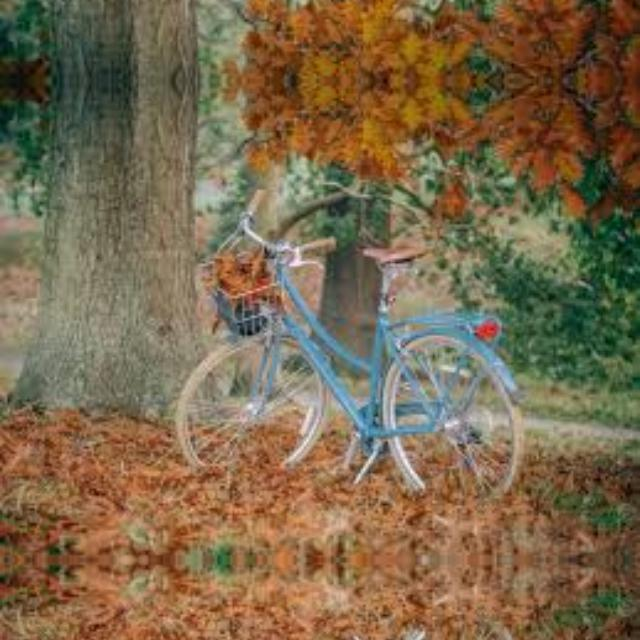obstacle: (168, 203, 550, 503), (168, 616, 549, 640)
